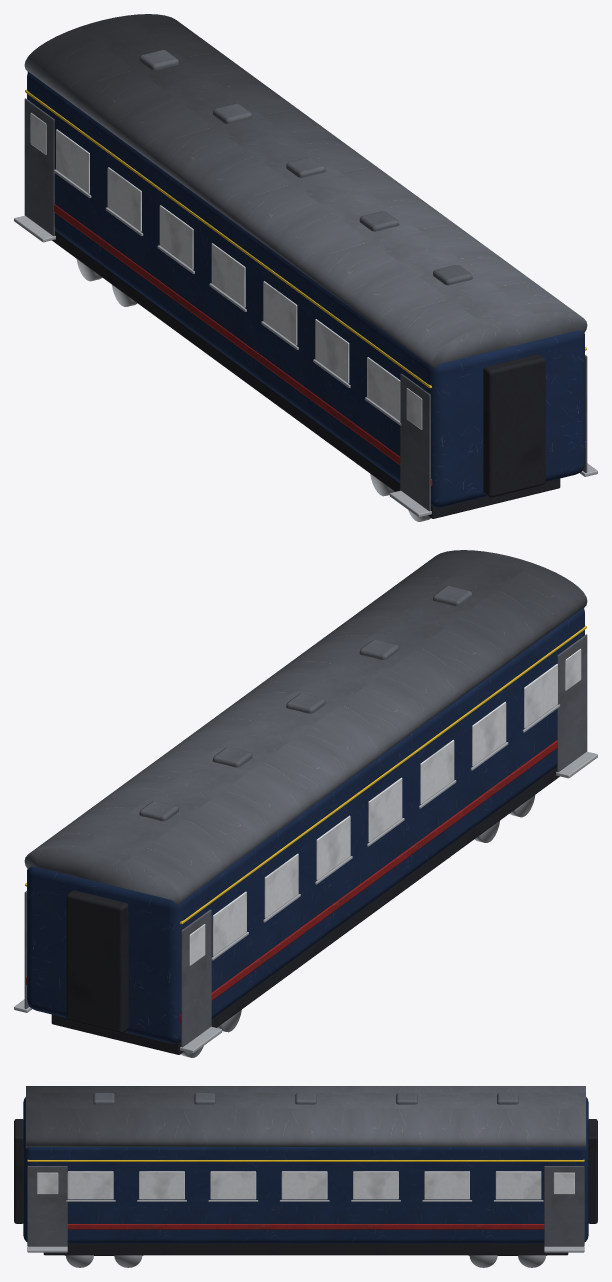
File: TrainCar.fbx
3 views of the same model, one above another, from view 1: azimuth 30°, elevation 25°; view 2: azimuth 150°, elevation 25°; view 3: azimuth 270°, elevation 25° (orthographic). The views are drawn at different scales.
Parts seen in each view (by area): view 1: TrainCar_MetalGrey, TrainCar_TrainBlue, TrainCar_PlasticDark, TrainCar_PlasticWhite_glow.005, TrainCar_MetalRed, TrainCar_Steel, TrainCar_MetalYellow; view 2: TrainCar_MetalGrey, TrainCar_TrainBlue, TrainCar_PlasticDark, TrainCar_PlasticWhite_glow.005, TrainCar_MetalRed, TrainCar_Steel, TrainCar_MetalYellow; view 3: TrainCar_MetalGrey, TrainCar_TrainBlue, TrainCar_PlasticWhite_glow.005, TrainCar_PlasticDark, TrainCar_MetalRed, TrainCar_Steel, TrainCar_MetalYellow.
Boxes of the visible parts, x1,y1,x2,y2 form: TrainCar_MetalGrey: (24, 14, 587, 511); TrainCar_TrainBlue: (27, 72, 584, 507); TrainCar_PlasticDark: (52, 231, 560, 518); TrainCar_PlasticWhite_glow.005: (30, 112, 422, 429); TrainCar_MetalRed: (54, 204, 585, 486); TrainCar_Steel: (14, 169, 597, 521); TrainCar_MetalYellow: (25, 89, 586, 388); TrainCar_MetalGrey: (24, 550, 587, 1047); TrainCar_TrainBlue: (27, 608, 584, 1043); TrainCar_PlasticDark: (51, 767, 559, 1054); TrainCar_PlasticWhite_glow.005: (189, 648, 581, 965); TrainCar_MetalRed: (26, 740, 557, 1022); TrainCar_Steel: (14, 704, 597, 1057); TrainCar_MetalYellow: (25, 625, 586, 924); TrainCar_MetalGrey: (26, 1086, 585, 1246); TrainCar_TrainBlue: (23, 1097, 588, 1243); TrainCar_PlasticWhite_glow.005: (37, 1171, 574, 1199); TrainCar_PlasticDark: (14, 1119, 597, 1255); TrainCar_MetalRed: (67, 1224, 544, 1229); TrainCar_Steel: (27, 1200, 584, 1267); TrainCar_MetalYellow: (27, 1159, 584, 1161).
Bounding box in the file's own units: 1060 × 1255 × 4340.
Materials: 7 (7 with a texture image).
